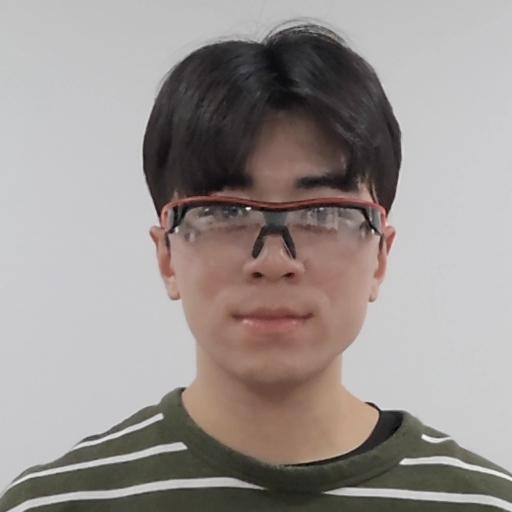glasses: (137, 26, 406, 382)
